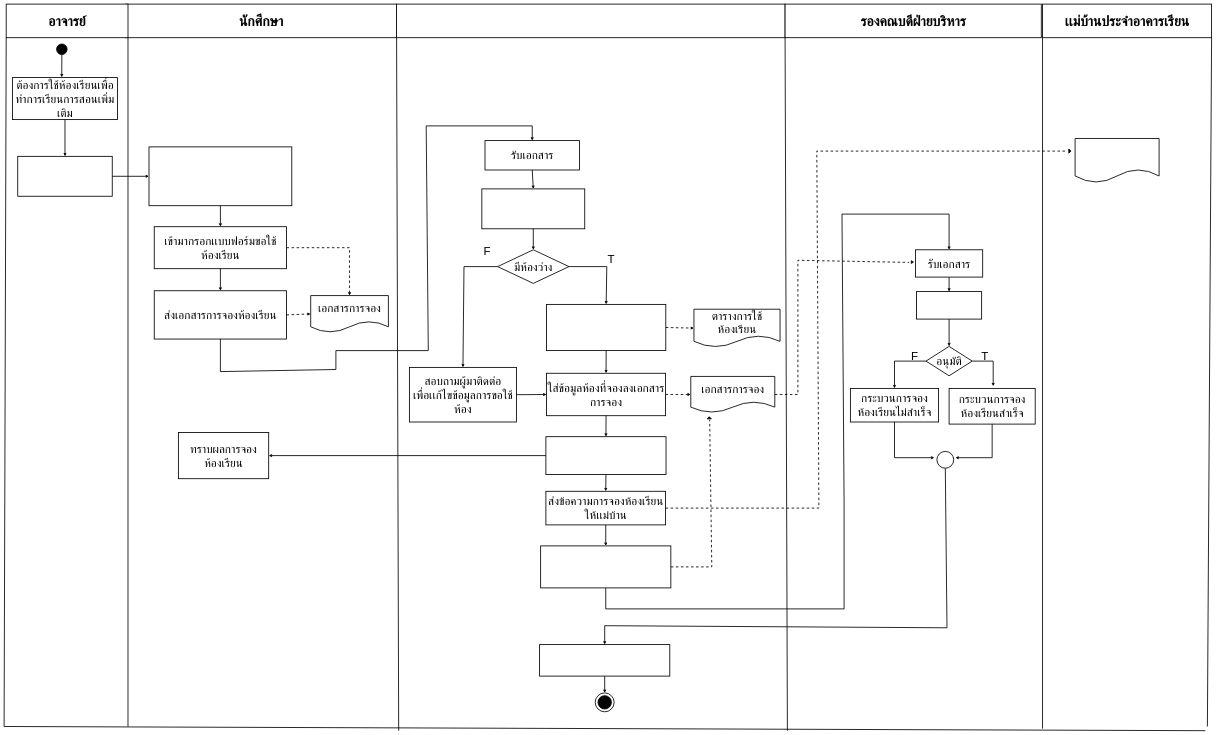
The diagram is 1216 pixels wide and 735 high, and some of its shapes have lost their labels. The centre of each missing label's shape, as x and y in pixels:
จัดเก็บเอกสารการจอง: [604,660]
ตรวจสอบหาห้อง เเละเวลาว่างจากเอกสาร: [533,208]
นำเอกสารการจองเสนอให้ ผู้บริหารอนุมัติ: [605,566]
บันทึกข้อมูลการจองห้องเรียน ลงตารางการใช้ห้องเรียน: [606,327]
ประชุมหาวันเวลาที่ นักศึกษา ทุกคนว่างตรงกันกับอาจารย์: [220,176]
พิจารณา: [949,305]
เจ้าหน้าที่: [590,21]
เเจ้งผลการจองห้องเรียน ทางโทรศัพท์: [605,455]
เเจ้งวันเวลาที่อาจารย์ว่าง: [65,176]
ใบเเจ้งขอใช้ห้องเรียน: [1117,160]
